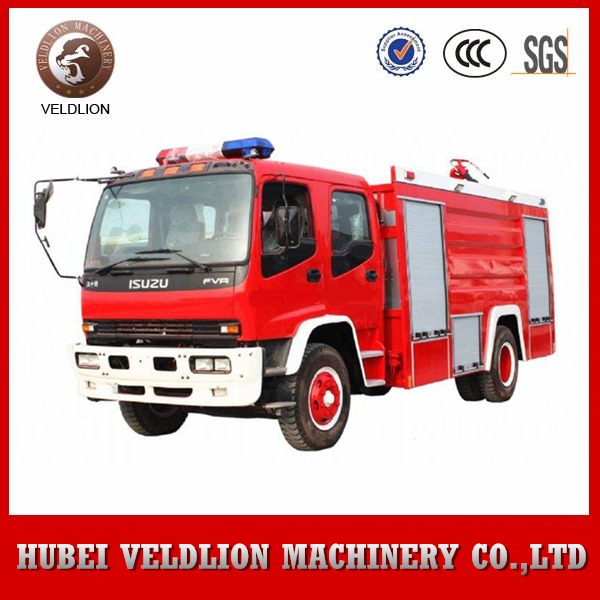truck: (77, 137, 559, 450)
